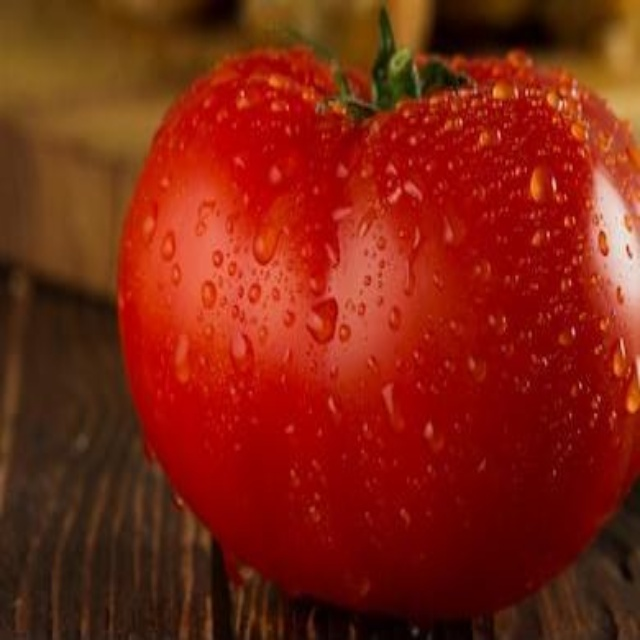tomato: (120, 47, 639, 609)
